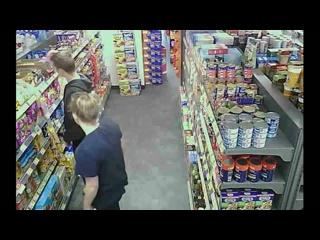shoplifting: (69, 92, 128, 210), (48, 51, 94, 150)
